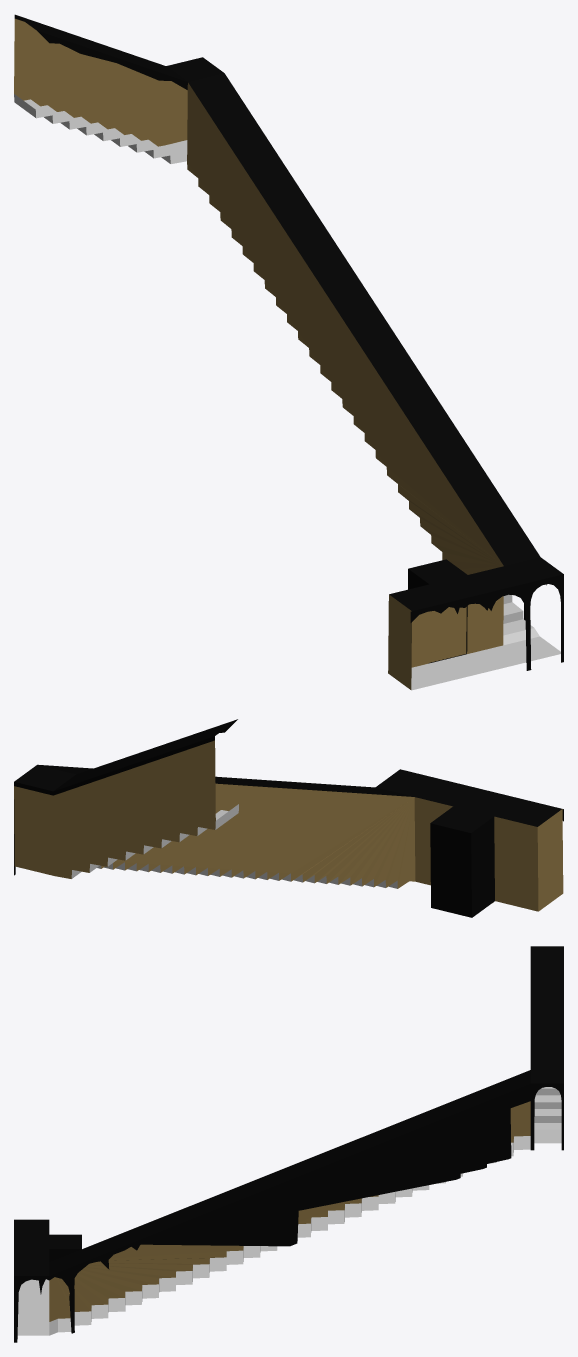
File: konec podzemi.fbx
The picture shows the model from 3 angles, top to bottom: view 1: azimuth 30°, elevation 25°; view 2: azimuth 150°, elevation 25°; view 3: azimuth 270°, elevation 25°; orthographic projection. The views are drawn at different scales.
Parts seen in each view (by area): view 1: Cube_5, Cube_6; view 2: Cube_5; view 3: Cube_5.
Part boxes in pixels (x1,y1,x2,y2): Cube_5: [14, 14, 563, 690]; Cube_6: [428, 607, 466, 662]; Cube_5: [14, 719, 563, 917]; Cube_5: [14, 946, 563, 1342].
Size of the model in its own units: 1000 by 2173 by 3315.
